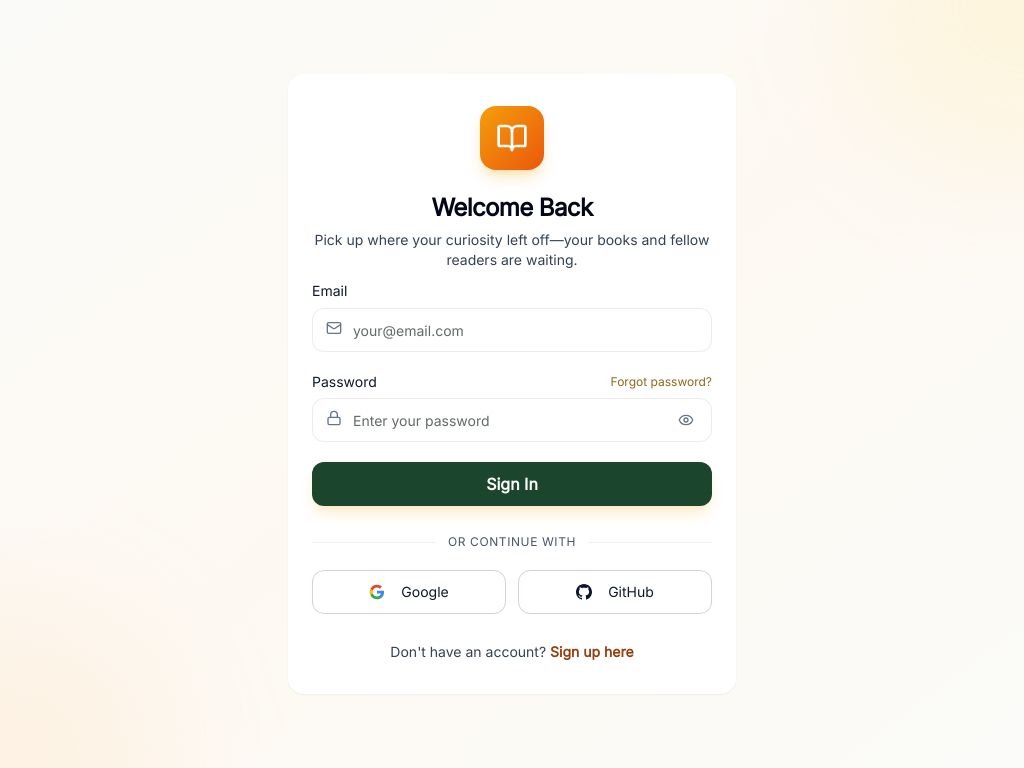
Test: Phase 3: Authentication and Account Entry › Dedicated Sign In page (/signin) › shows a custom validation message when both fields are empty
Click the button "Sign In" at (512, 484), box [312,462,712,506]
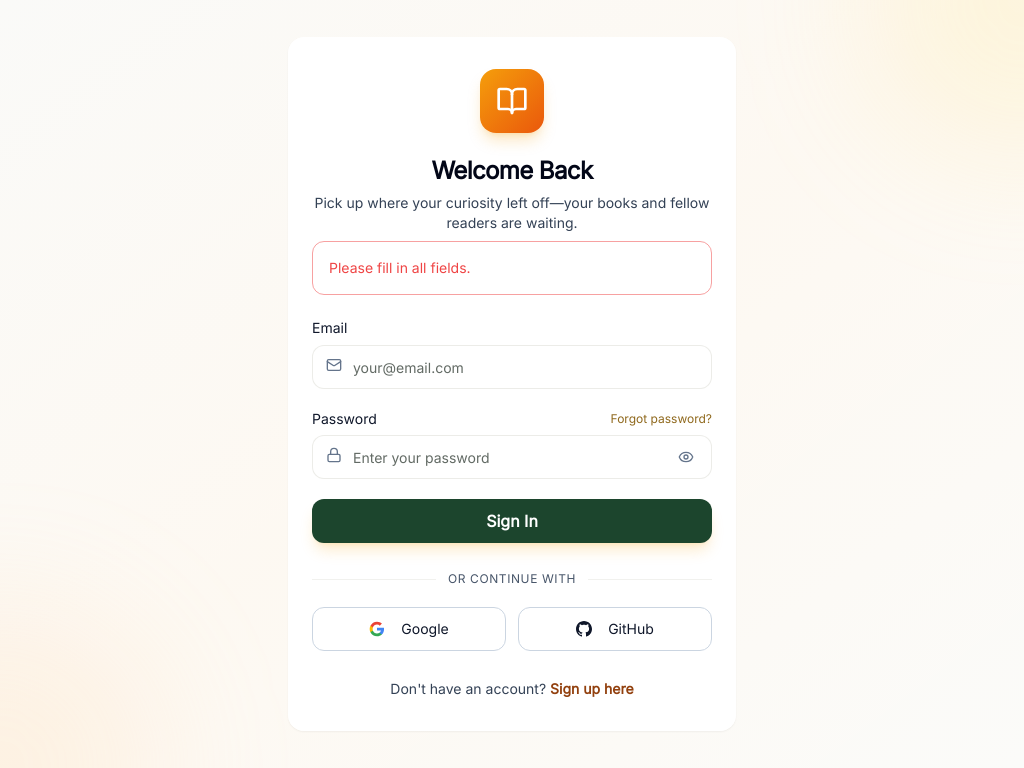
Result: the message shows "Please fill in all fields" at [329,259,471,276]
